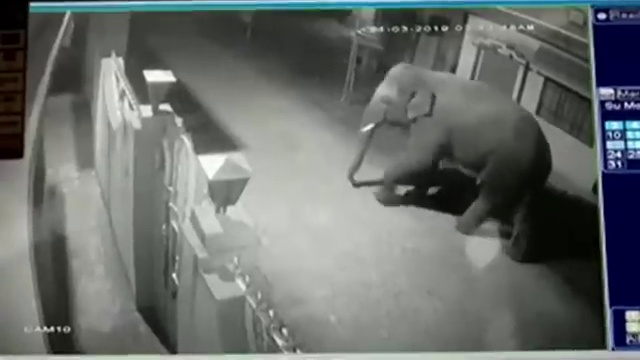Elephant: (347, 62, 552, 263)
